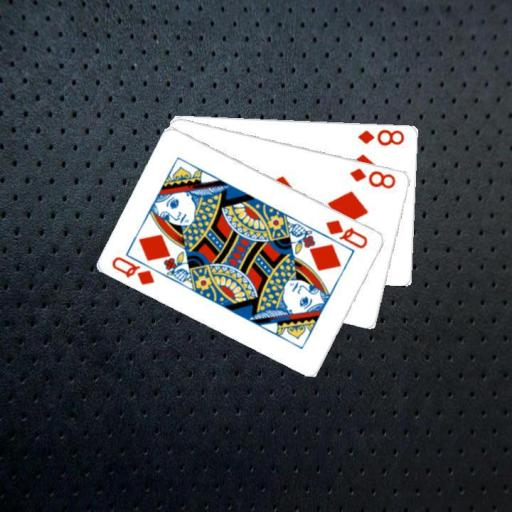8D: (347, 164, 398, 191), (355, 126, 406, 147)
QD: (323, 216, 370, 250), (109, 253, 156, 287)
